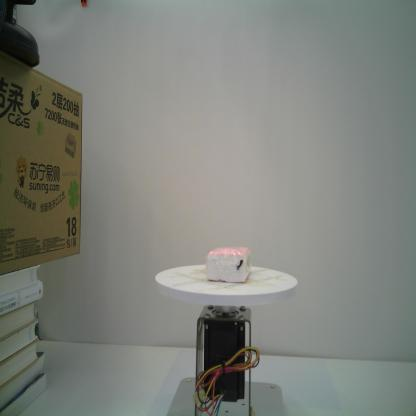Tissue: (204, 245, 252, 284)
